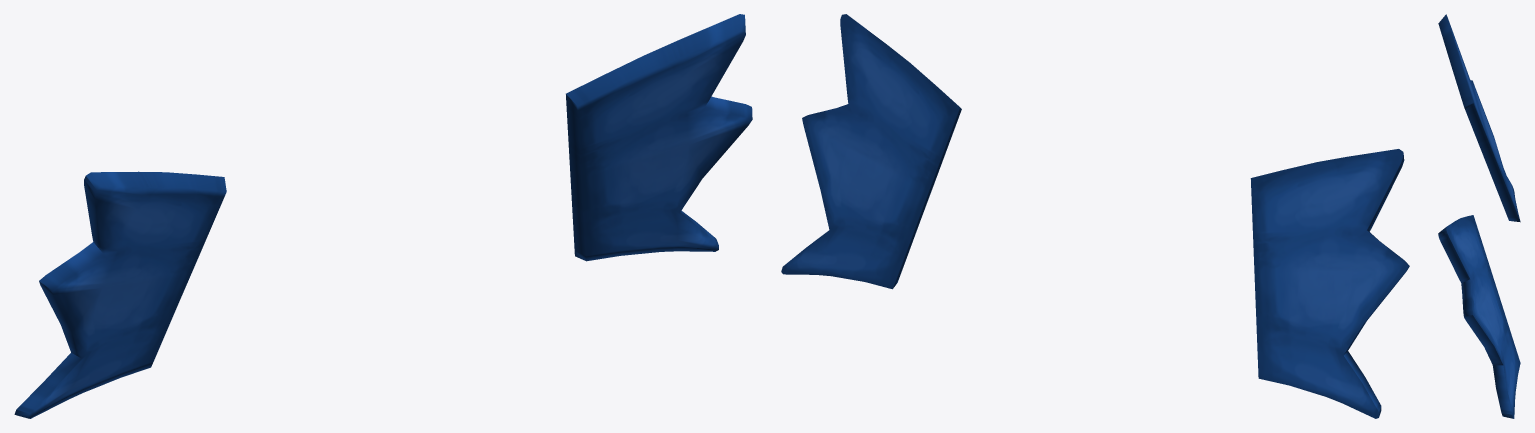
Rendered from OpenClownMouth_Hair2_Scaled.fbx.
3 renders of one model, left to right at view 1: azimuth 30°, elevation 25°; view 2: azimuth 150°, elevation 25°; view 3: azimuth 270°, elevation 25°, orthographic. The views are drawn at different scales.
Parts seen in each view (by area): view 1: HairColour2_L, HairColour2_R; view 2: HairColour2_R, HairColour2_L; view 3: HairColour2_L, HairColour2_R.
Boxes of the visible parts, box(x1,y1,x2,y2) form: HairColour2_L: box(566, 14, 752, 261); HairColour2_R: box(14, 171, 226, 418); HairColour2_R: box(1250, 149, 1409, 418); HairColour2_L: box(781, 14, 961, 289); HairColour2_L: box(1438, 215, 1520, 418); HairColour2_R: box(1438, 14, 1520, 222).
Size of the model in its own units: 60.53 by 22.26 by 8.99.
